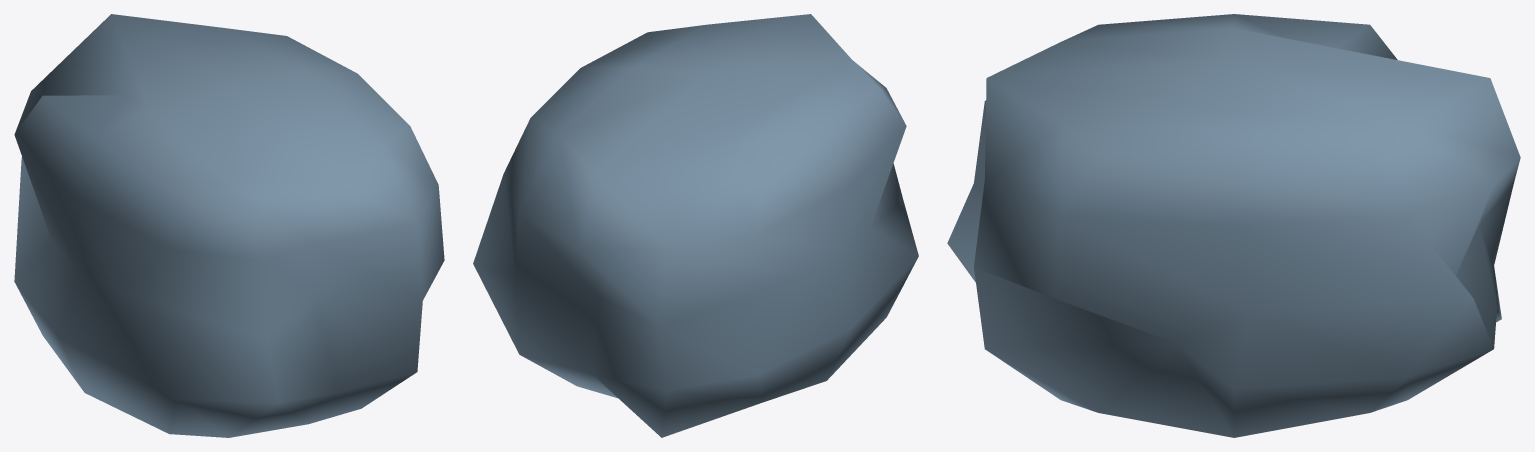
The model's file is Stone (1).fbx.
The picture shows the model from 3 angles, left to right: view 1: azimuth 30°, elevation 25°; view 2: azimuth 150°, elevation 25°; view 3: azimuth 270°, elevation 25°; orthographic projection. The views are drawn at different scales.
Visible parts, largest first — view 1: Cube.044; view 2: Cube.044; view 3: Cube.044.
Boxes of the visible parts, bbox=[...] form: Cube.044: bbox=[14, 14, 444, 437]; Cube.044: bbox=[473, 14, 918, 437]; Cube.044: bbox=[947, 14, 1520, 437].
Bounding box in the file's own units: 1137 × 1040 × 1631.
